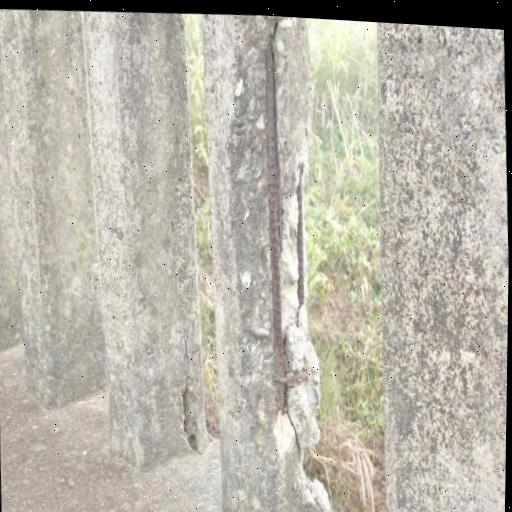exposed_rebar: (265, 46, 285, 411), (296, 164, 304, 305)
